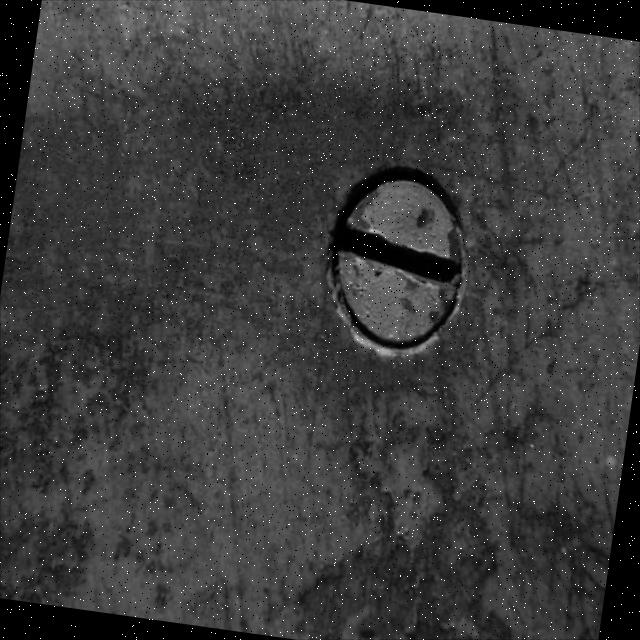Slotted: (302, 160, 509, 392)
